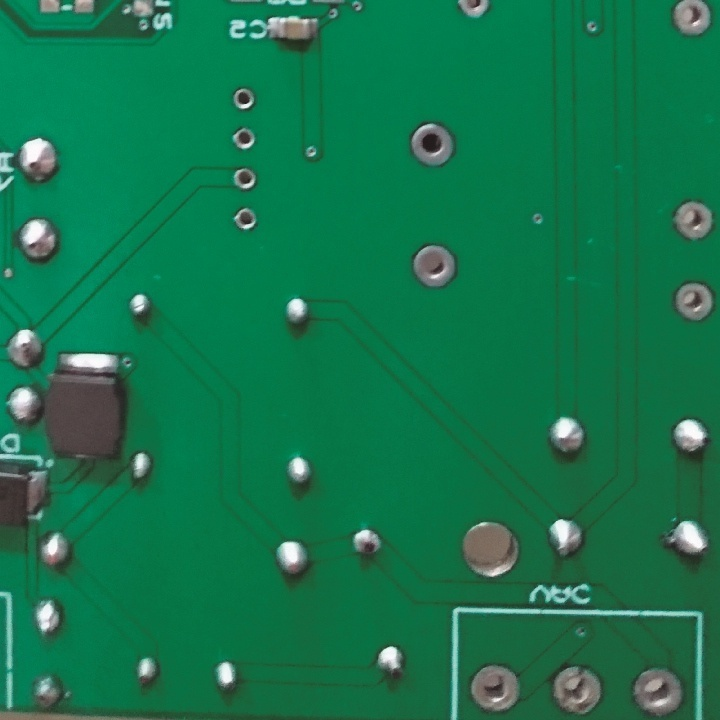F: (465, 660, 523, 715), (549, 662, 604, 719), (631, 666, 687, 720), (409, 240, 459, 293), (407, 120, 457, 172), (670, 198, 716, 246), (671, 277, 716, 324), (668, 1, 713, 42), (231, 202, 260, 234), (231, 163, 259, 193), (456, 1, 493, 21), (230, 125, 257, 152), (229, 86, 256, 112)
